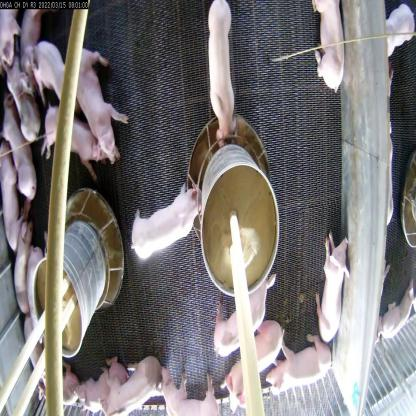Pig: (9, 295, 87, 415), (194, 0, 246, 152), (63, 42, 122, 164), (125, 180, 201, 272), (211, 271, 278, 351), (41, 89, 103, 168), (0, 92, 42, 205), (94, 347, 162, 415), (226, 322, 282, 402), (270, 333, 336, 398), (317, 229, 351, 342), (154, 362, 223, 415), (1, 126, 30, 244), (8, 44, 44, 138), (315, 0, 350, 92), (35, 47, 74, 107), (11, 204, 32, 308)
